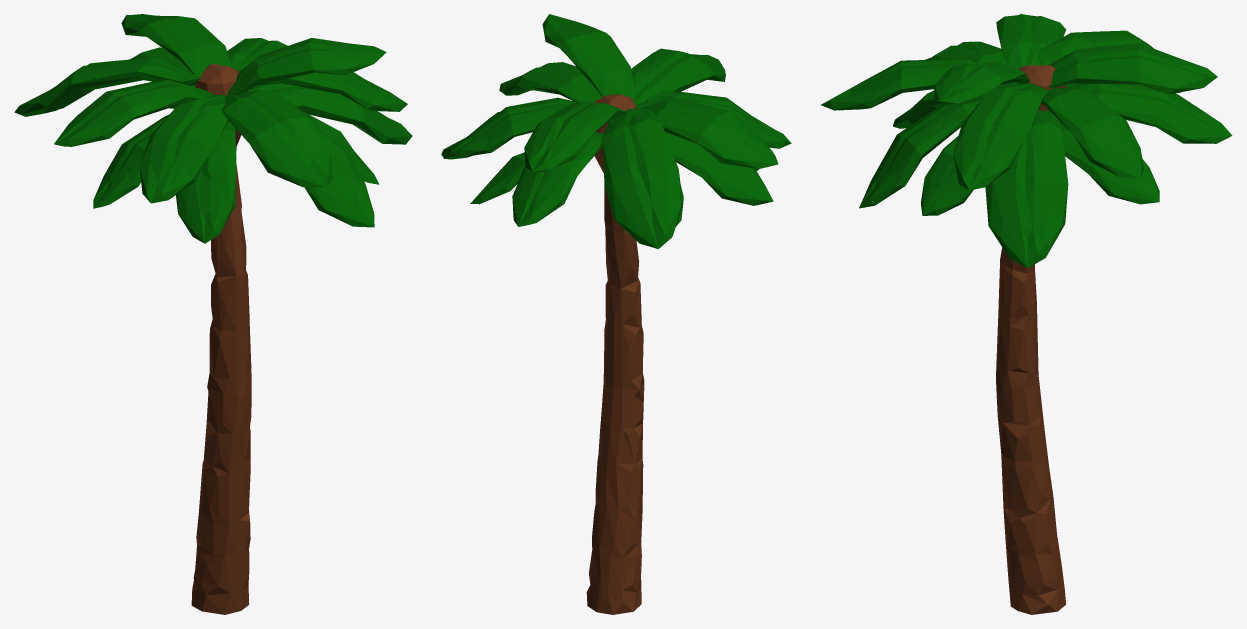
Rendered from Palm.fbx.
3 renders of one model, left to right at view 1: azimuth 30°, elevation 25°; view 2: azimuth 150°, elevation 25°; view 3: azimuth 270°, elevation 25°, orthographic. The views are drawn at different scales.
Visible parts, largest first — view 1: palmtrunk, palmtrunk.001; view 2: palmtrunk, palmtrunk.001; view 3: palmtrunk, palmtrunk.001.
Boxes of the visible parts, left/top/right/bottom form: palmtrunk: left=14, top=14, right=412, bottom=243; palmtrunk.001: left=191, top=63, right=251, bottom=614; palmtrunk: left=441, top=14, right=791, bottom=248; palmtrunk.001: left=586, top=94, right=644, bottom=614; palmtrunk: left=821, top=14, right=1232, bottom=268; palmtrunk.001: left=996, top=65, right=1066, bottom=614.
Bounding box in the file's own units: 239 × 362 × 240.
